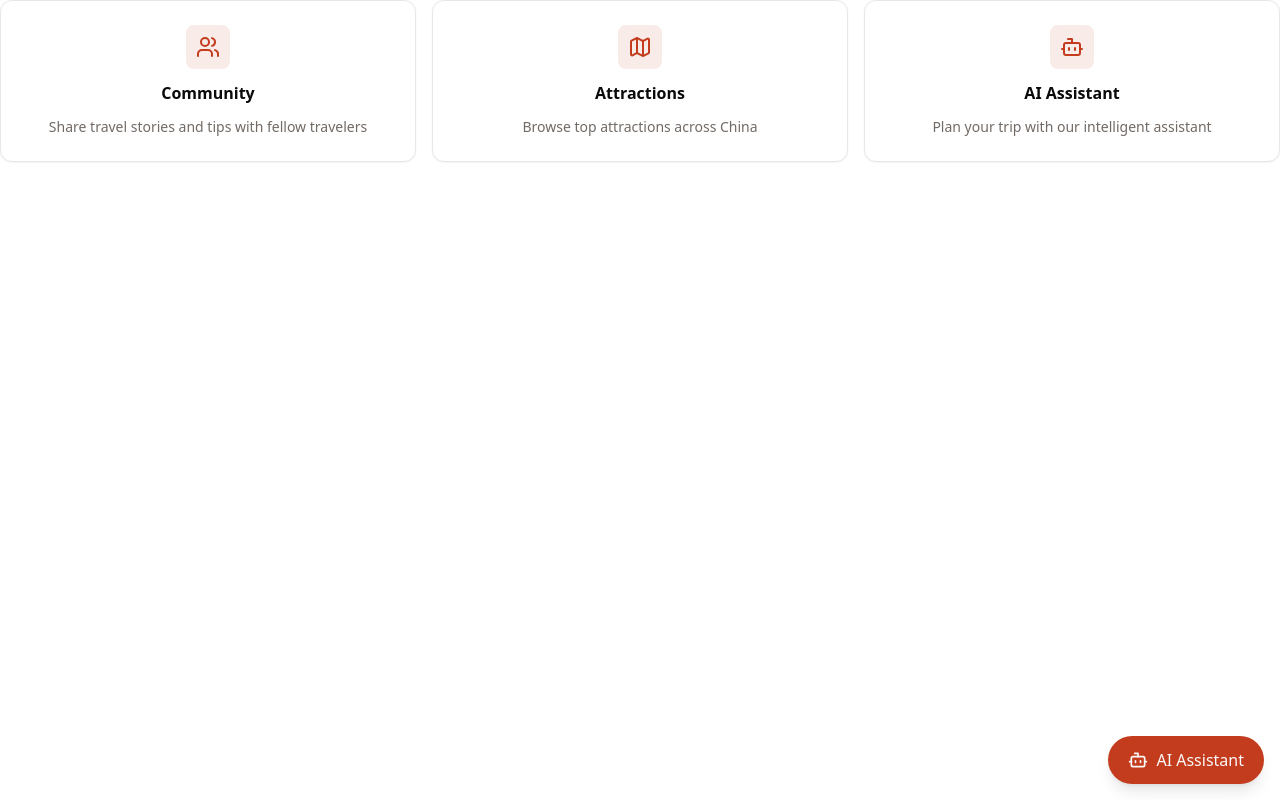
AssistantPanel › opens from the floating entry with focus in the input
Click the button "AI Assistant".
click(1186, 760)  # box [1108, 736, 1264, 784]
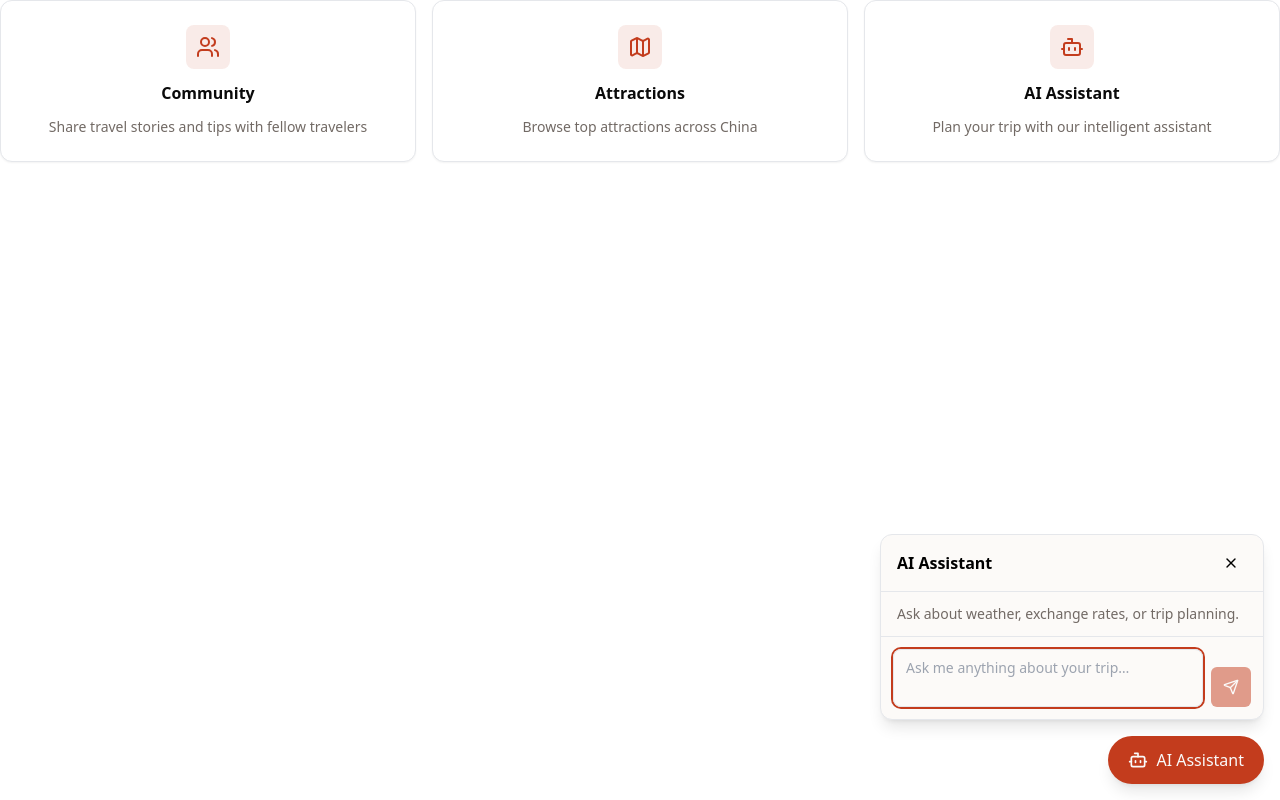
Expected: the dialog "AI Assistant" is shown, [880, 534, 1264, 720]
